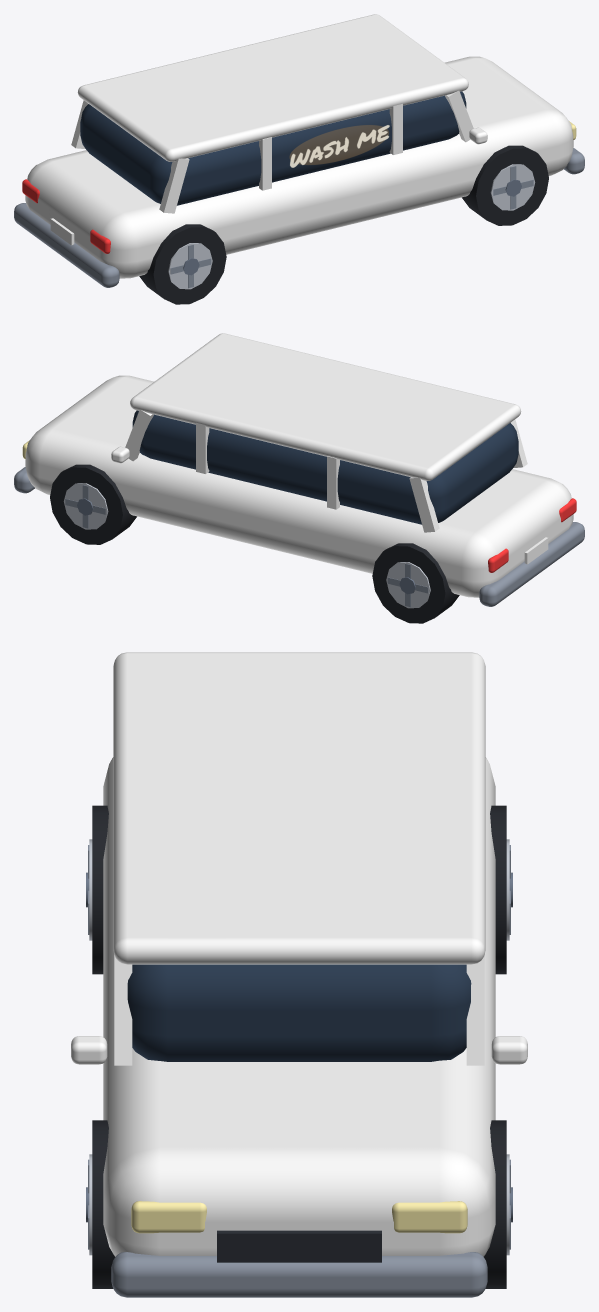
Rendered from car_limo.glb.
The picture shows the model from 3 angles, top to bottom: view 1: azimuth 30°, elevation 25°; view 2: azimuth 150°, elevation 25°; view 3: azimuth 270°, elevation 25°; orthographic projection. The views are drawn at different scales.
Parts seen in each view (by area): view 1: Paint, Trim, Wheel0, Wheel1, WashMe; view 2: Paint, Trim, Wheel2, Wheel3; view 3: Paint, Trim, Wheel0, Wheel2, Wheel1, Wheel3.
Boxes of the visible parts, left/top/right/bottom form: Paint: left=25, top=14, right=573, bottom=278; Trim: left=14, top=91, right=584, bottom=287; Wheel0: left=462, top=145, right=548, bottom=225; Wheel1: left=139, top=224, right=226, bottom=304; WashMe: left=289, top=125, right=389, bottom=167; Paint: left=25, top=333, right=573, bottom=597; Trim: left=14, top=410, right=584, bottom=606; Wheel2: left=50, top=464, right=136, bottom=544; Wheel3: left=372, top=543, right=459, bottom=623; Paint: left=71, top=652, right=527, bottom=1256; Trim: left=111, top=964, right=487, bottom=1297; Wheel0: left=86, top=1120, right=114, bottom=1288; Wheel2: left=484, top=1120, right=512, bottom=1288; Wheel1: left=86, top=805, right=108, bottom=974; Wheel3: left=490, top=805, right=512, bottom=974.
Size of the model in its own units: 5.54 by 1.66 by 2.27.
7 materials, 1 textured.
